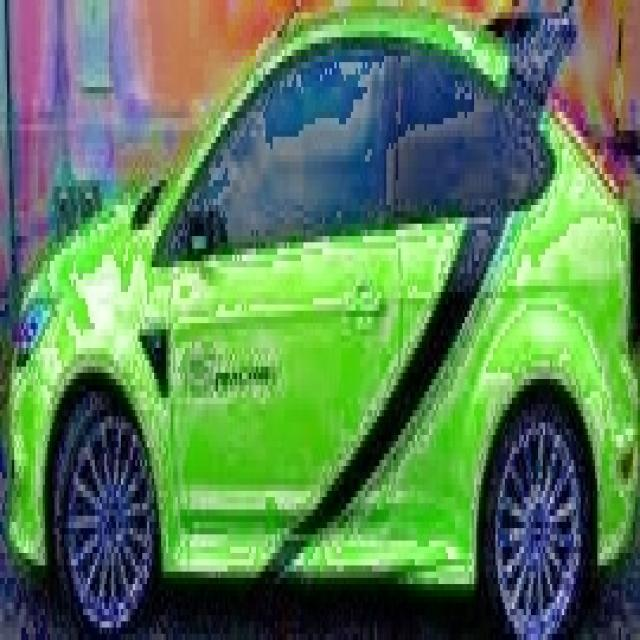green: (9, 12, 640, 640)
